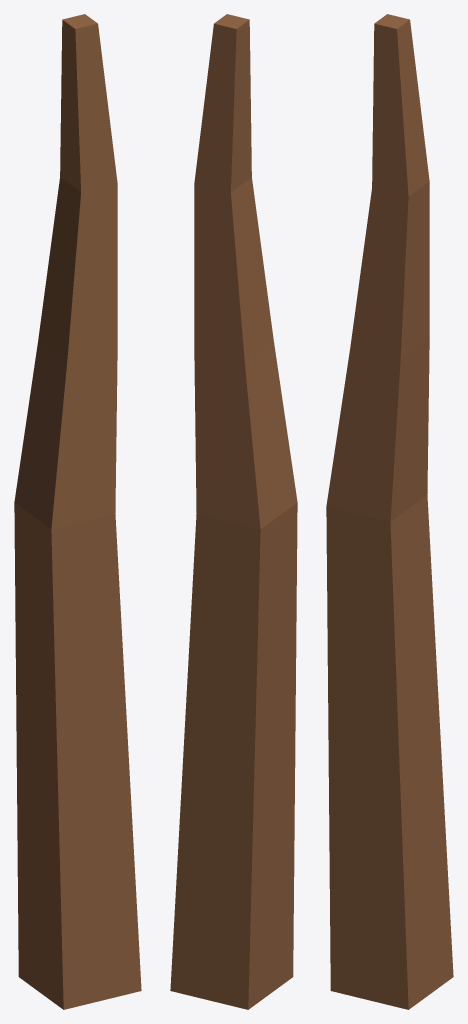
Rendered from tree-winter-trunk-023.glb.
3 renders of one model, left to right at view 1: azimuth 30°, elevation 25°; view 2: azimuth 150°, elevation 25°; view 3: azimuth 330°, elevation 25°, orthographic.
Parts seen in each view (by area): view 1: Plane.054_173; view 2: Plane.054_173; view 3: Plane.054_173.
Part boxes in pixels (x1,y1,x2,y2): Plane.054_173: [14, 14, 141, 1009]; Plane.054_173: [170, 14, 297, 1009]; Plane.054_173: [326, 14, 453, 1009].
Bounding box in the file's own units: 0.2299 × 2.45 × 0.2077.
